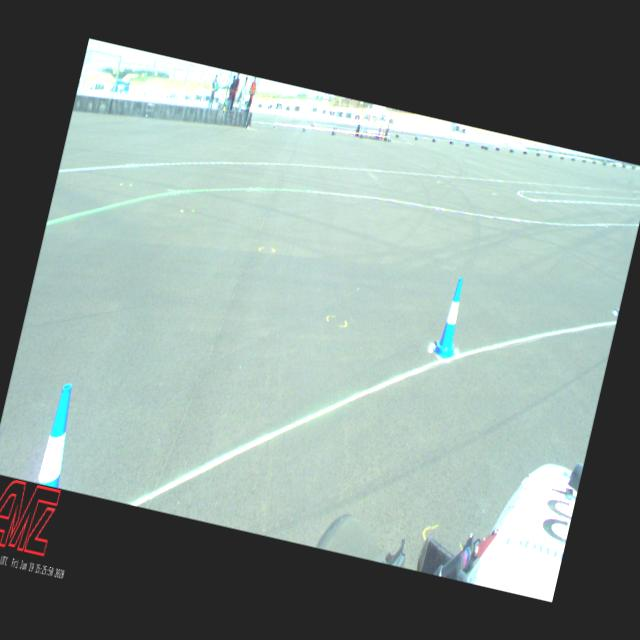blue_cone: (36, 382, 80, 487), (431, 276, 473, 360)
